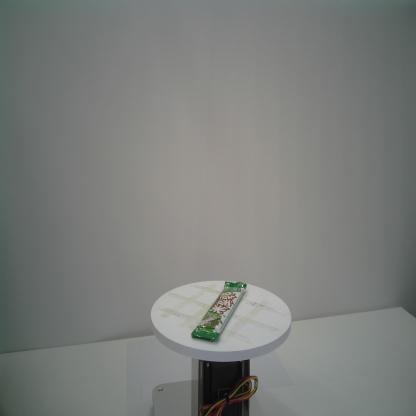Chocolate: (191, 280, 248, 342)
